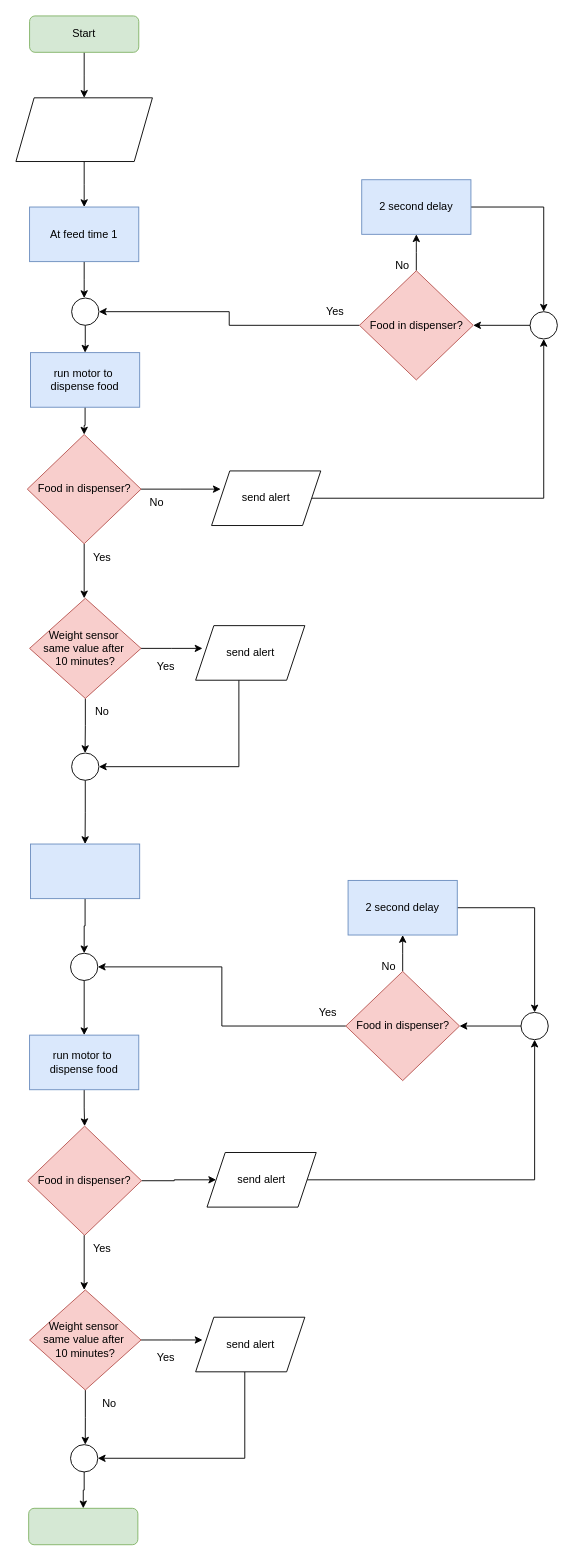
The diagram is 573 pixels wide and 1561 high, and some of its shapes have lost their labels. The centre of each missing label's shape, as x and y in pixels:
At feed time 2: (x=85, y=871)
End: (x=83, y=1526)
Enter feed time 1 Enter feed time 2 Enter food grams: (x=83, y=129)
